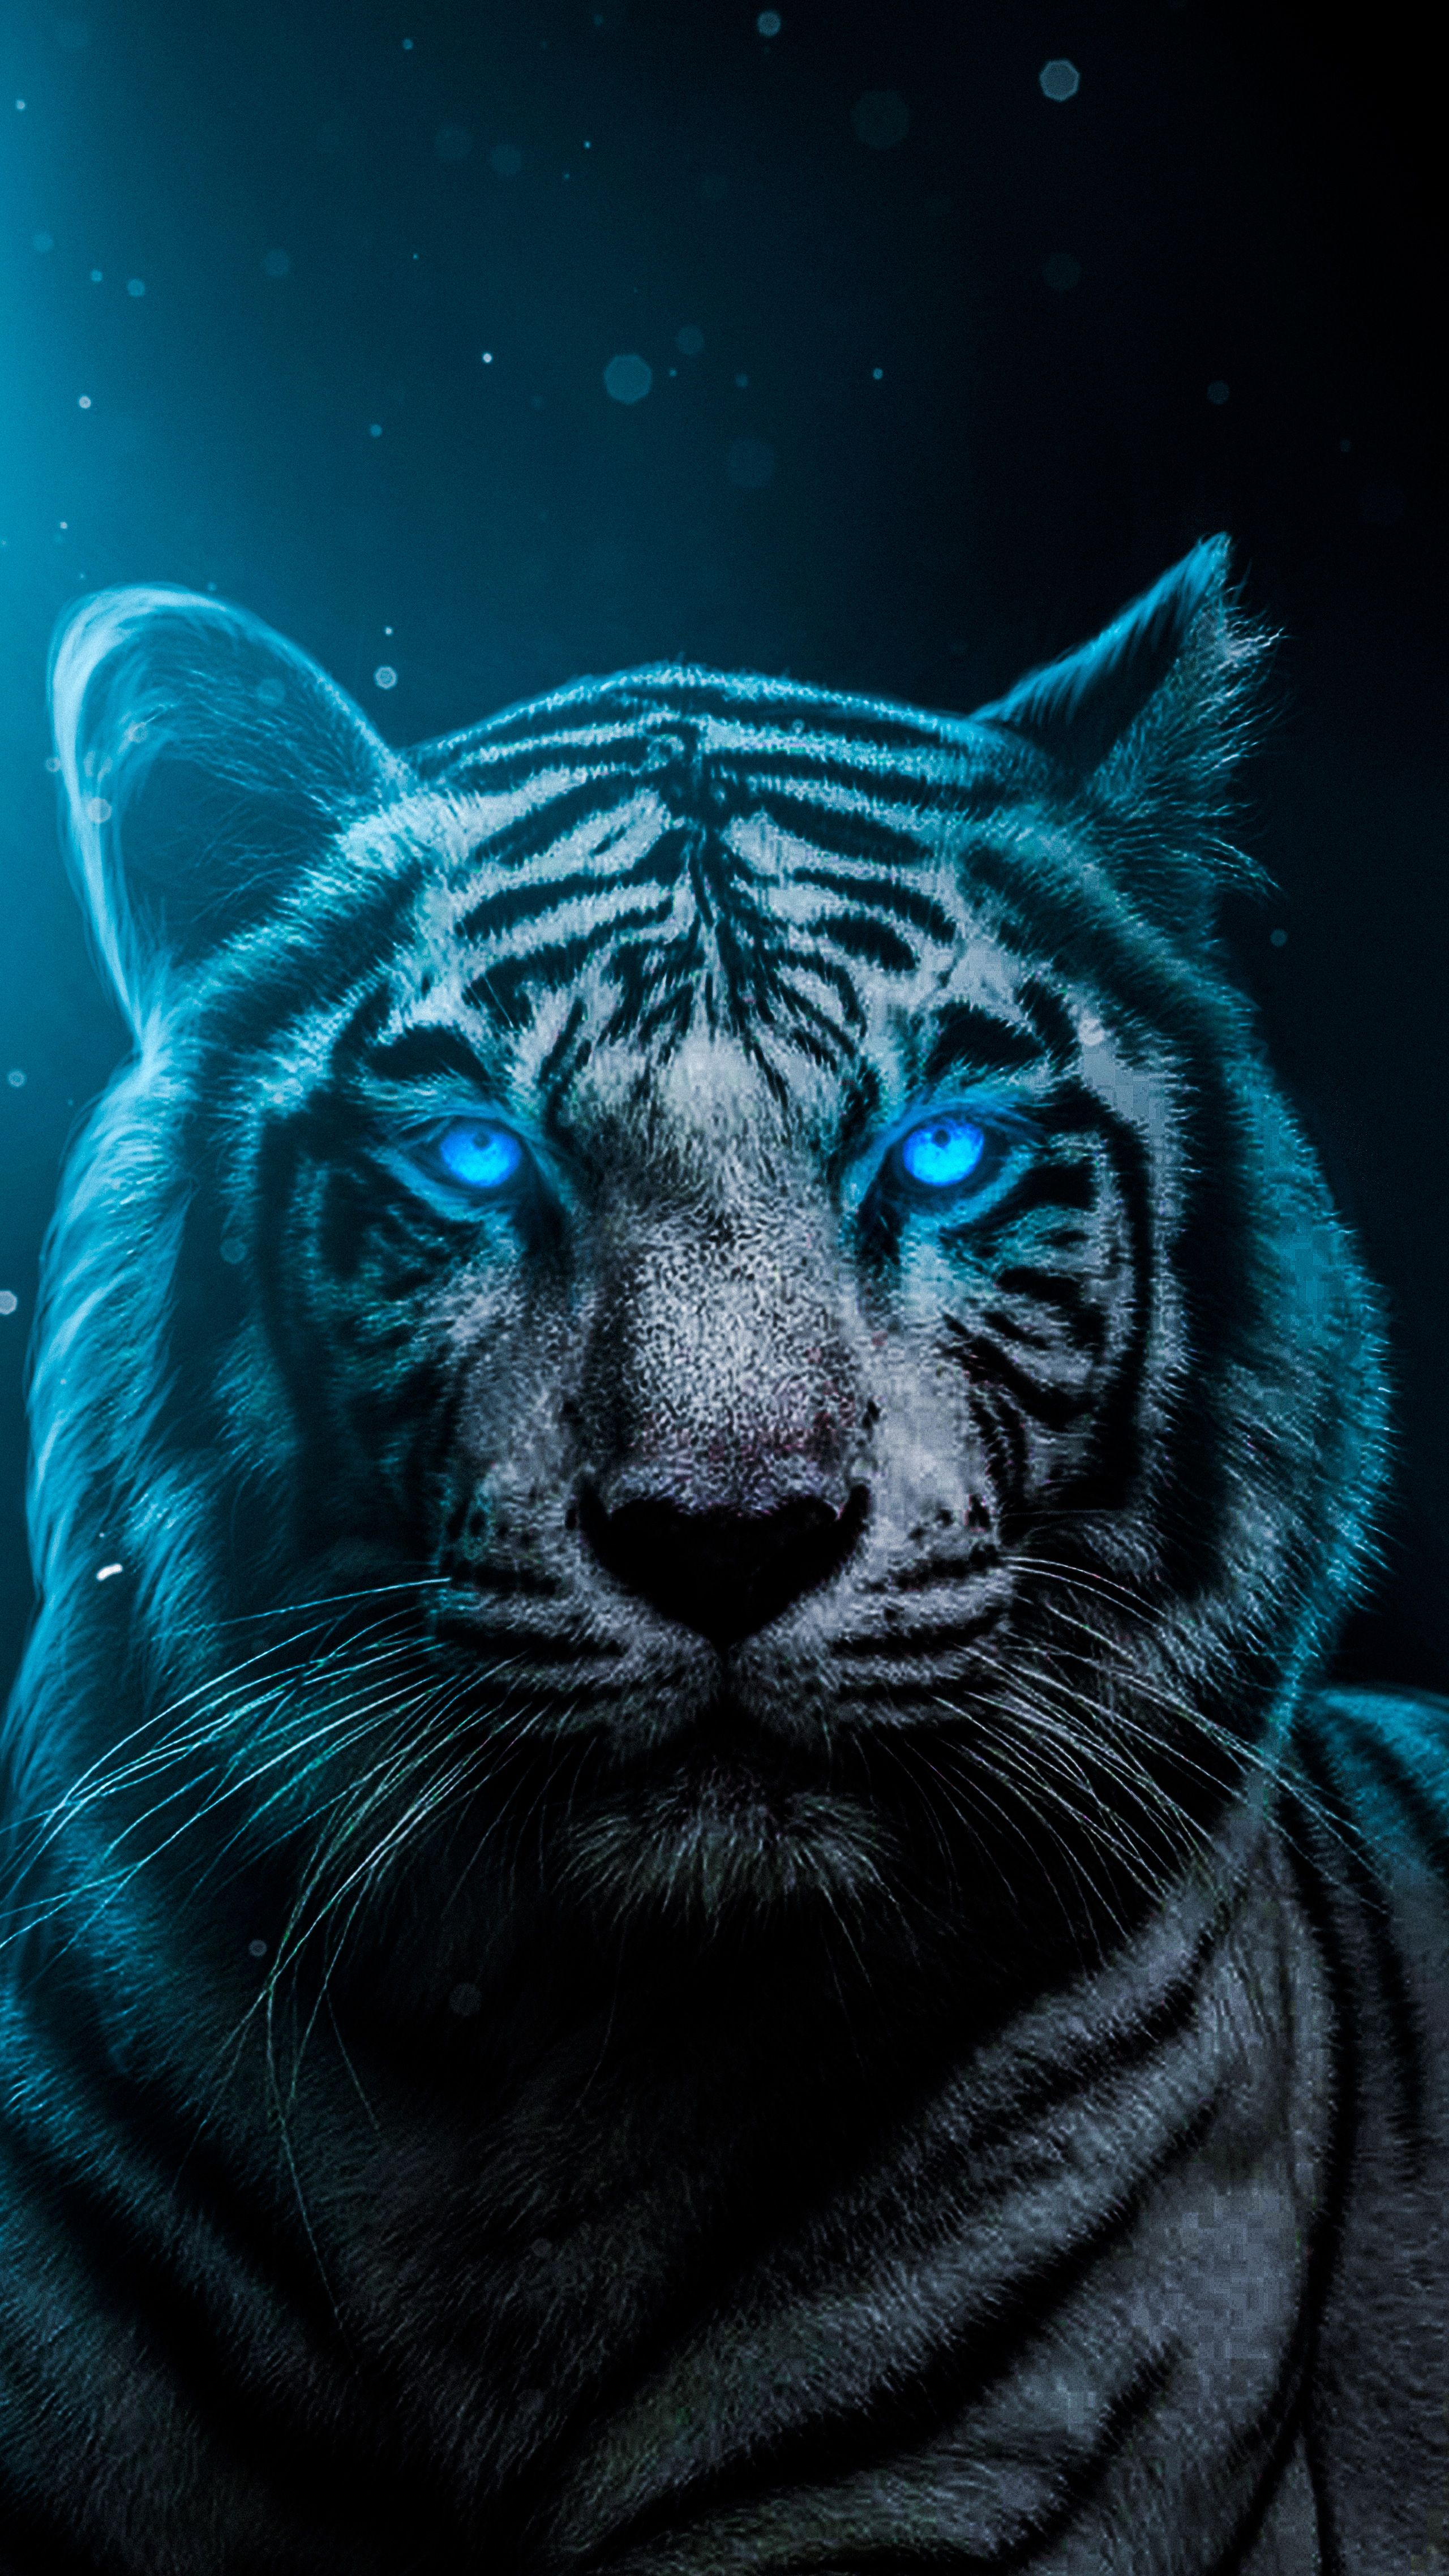Tigrew: (39, 465, 1357, 2219)
